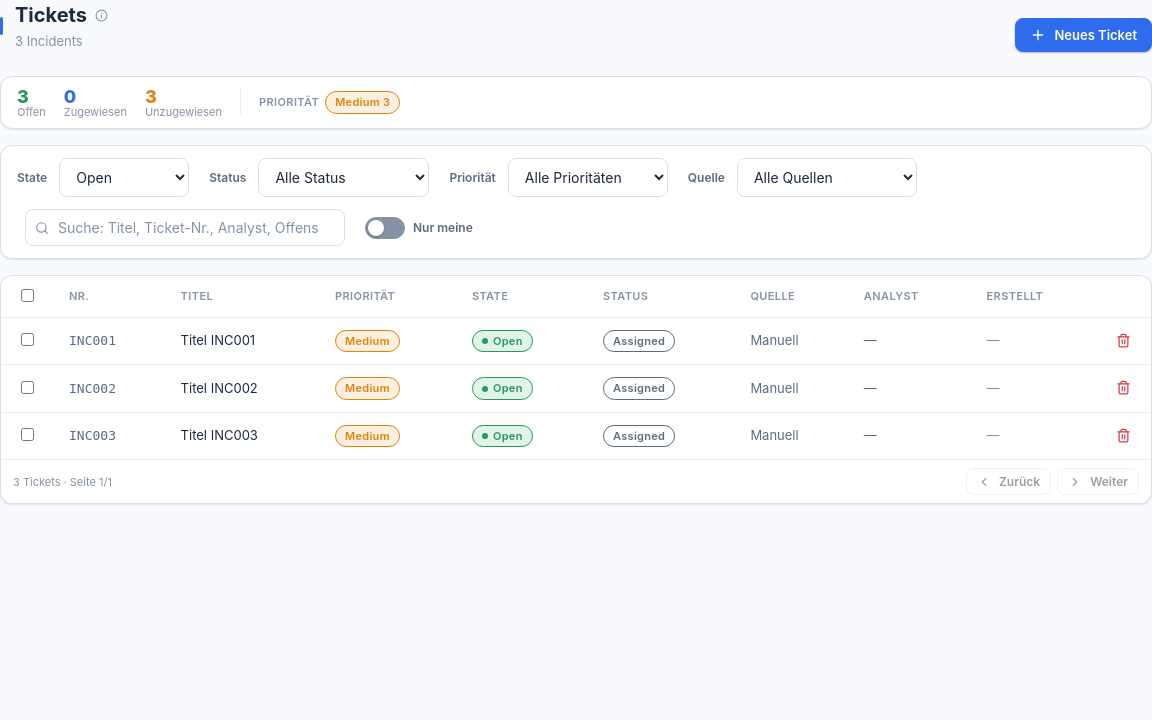
TicketsPage — Bulk Delete › bei Fehler: sichtbare Meldung, kein Reload, Auswahl bleibt, KEINE Erfolgsmeldung
Expected: the link "Titel INC001" is shown, [181,332,255,348]
Click the checkbox named "Ticket INC001 auswählen" at (28,340), box [21,333,34,346]
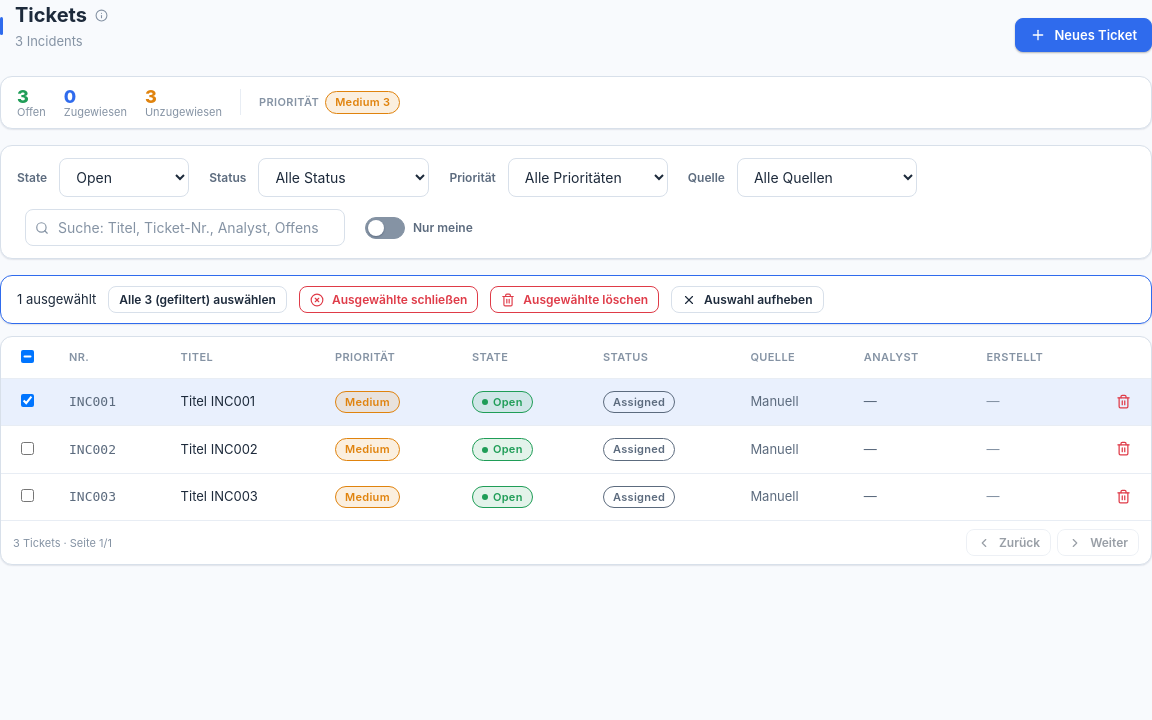
Click the checkbox named "Ticket INC002 auswählen" at (28,448), box [21,442,34,455]
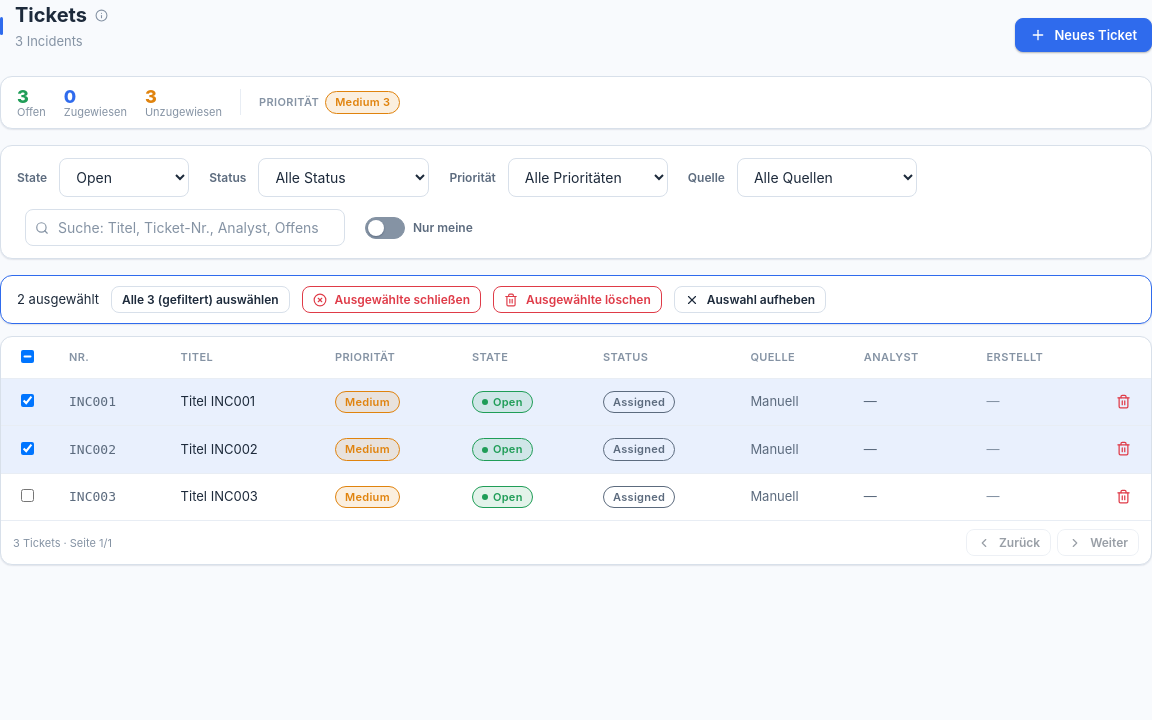
Now the text "2 ausgewählt" is shown, box [17,290,99,310]
Click the button "Ausgewählte löschen" at (577,300), box [493,286,662,313]
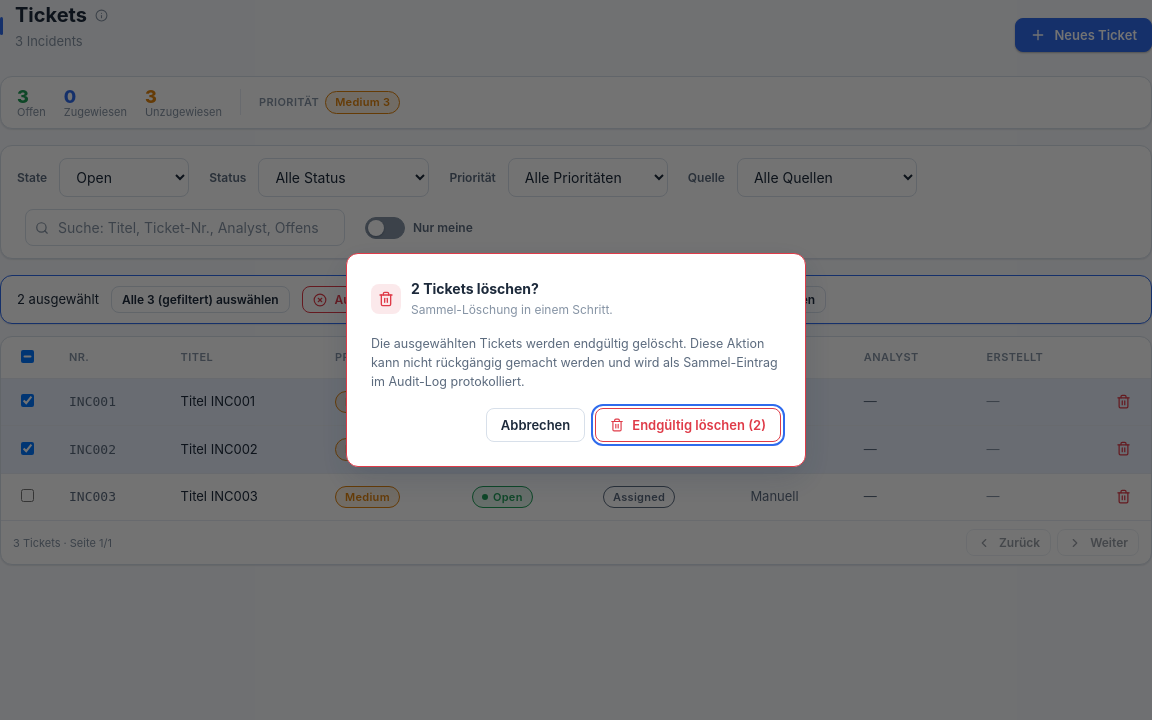
Click the button "Endgültig löschen (2)" at (688,425), box [595,408,781,442]
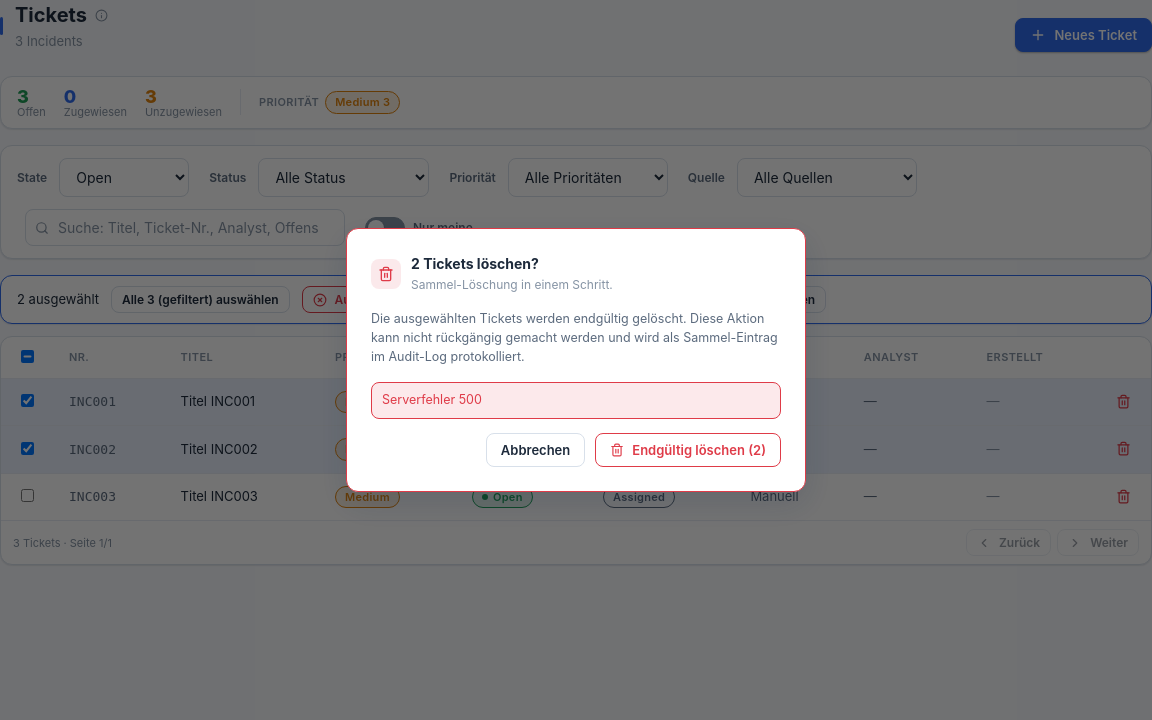
Now the text "2 ausgewählt" is shown, box [17,290,99,310]
Now the text "Serverfehler 500" is shown, box [371,382,781,419]
